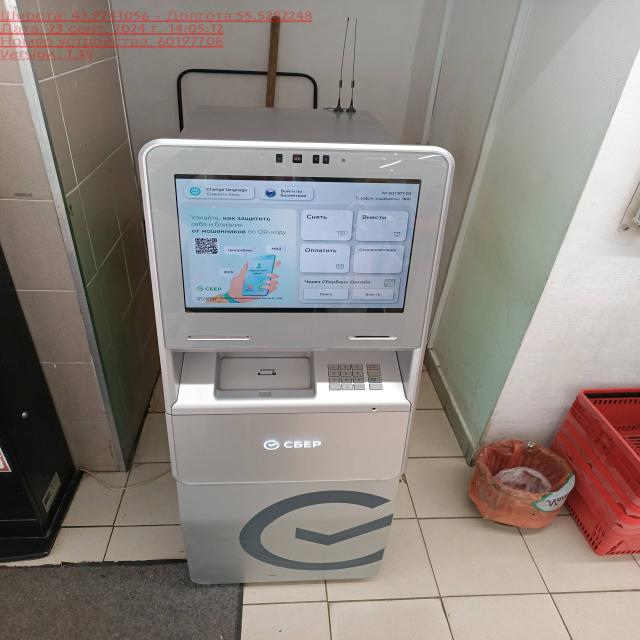bank: (140, 99, 450, 584)
